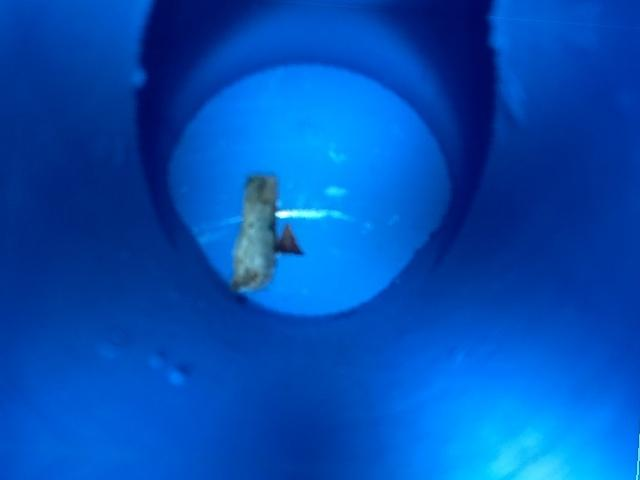megot: (220, 166, 314, 303)
